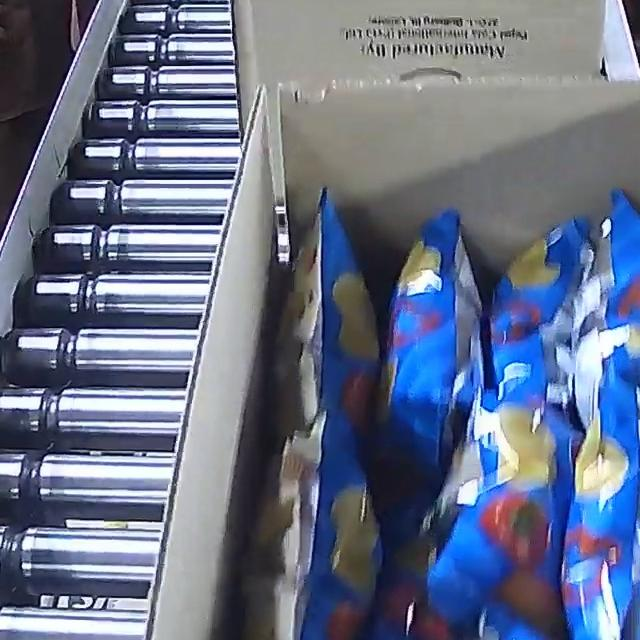paprika: (257, 182, 640, 640)
